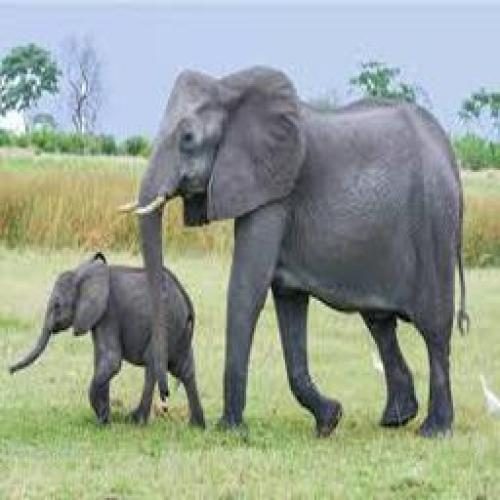african_elephant-endangered: (144, 66, 458, 430), (16, 262, 207, 423)
